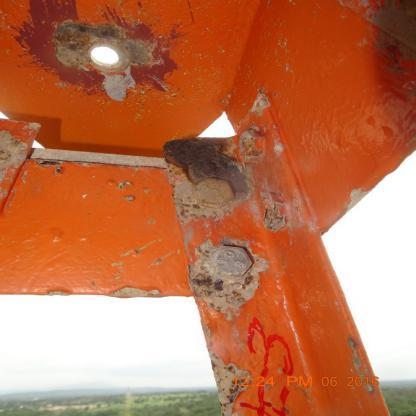Grado3: (148, 130, 274, 196)
